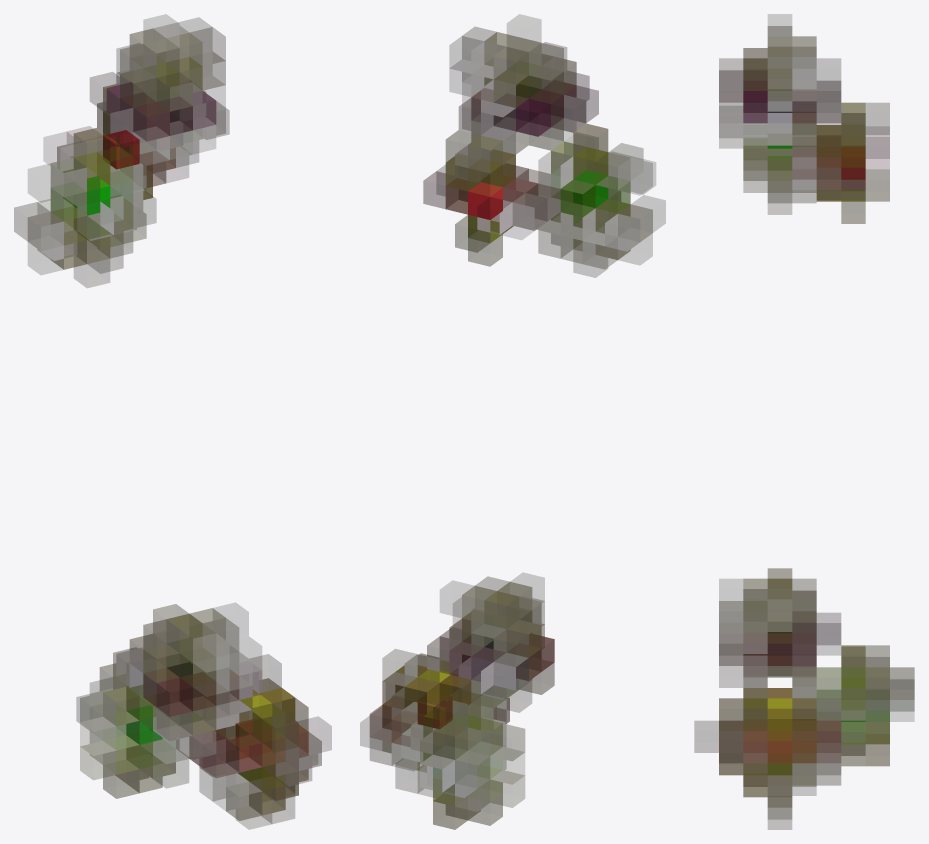
The model's file is iter_5.obj.
3 views of the same model, side by side, from view 1: azimuth 30°, elevation 25°; view 2: azimuth 150°, elevation 25°; view 3: azimuth 270°, elevation 25° (orthographic). The views are drawn at different scales.
Visible parts, largest first — view 1: iter_5; view 2: iter_5; view 3: iter_5.
Part boxes in pixels (<box>): iter_5: <box>14,14,331,829</box>; iter_5: <box>360,14,665,829</box>; iter_5: <box>694,14,914,829</box>.
Size of the model in its own units: 1.2 by 3.4 by 0.9.
